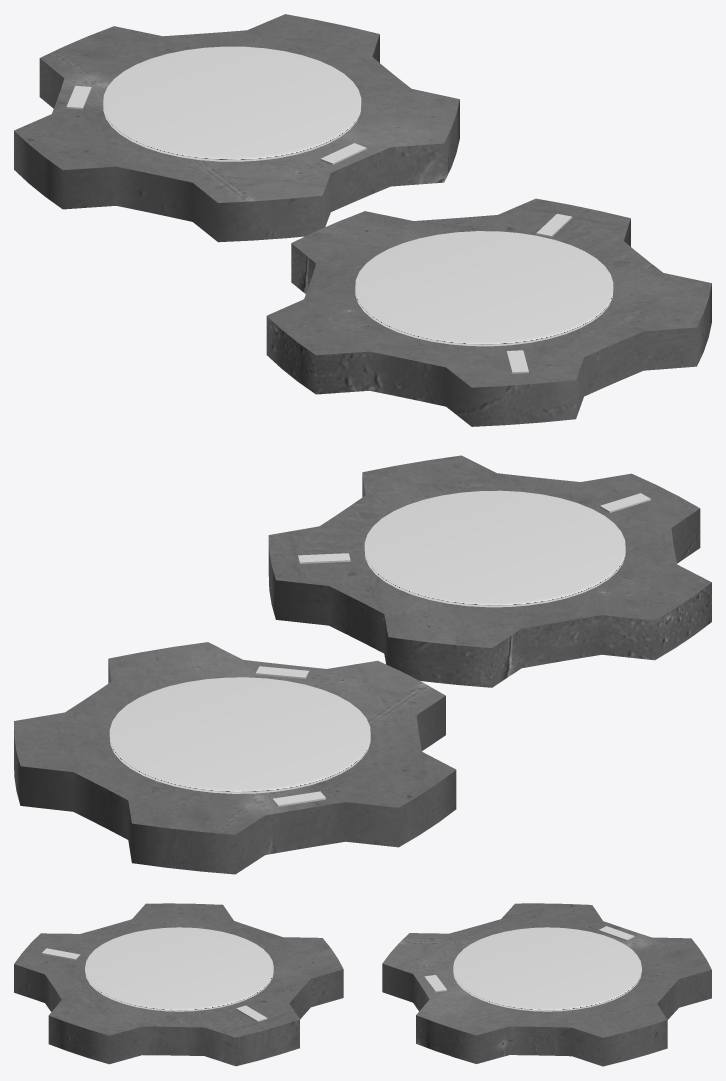
File: Gear.fbx
3 views of the same model, one above another, from view 1: azimuth 30°, elevation 25°; view 2: azimuth 150°, elevation 25°; view 3: azimuth 270°, elevation 25° (orthographic). The views are drawn at different scales.
Visible parts, largest first — view 1: Cube, Cube.002, Cylinder.001, Cylinder.003; view 2: Cube.002, Cube, Cylinder.003, Cylinder.001; view 3: Cube, Cube.002, Cylinder.001, Cylinder.003.
Part boxes in pixels (x1,y1,x2,y2): Cube: (266,198,711,426); Cube.002: (14,14,459,242); Cylinder.001: (355,231,613,346); Cylinder.003: (103,46,361,161); Cube.002: (14,642,456,874); Cube: (268,455,711,687); Cylinder.003: (109,677,370,793); Cylinder.001: (364,490,625,607); Cube: (14,903,343,1066); Cube.002: (382,903,711,1066); Cylinder.001: (85,927,273,1011); Cylinder.003: (453,927,641,1011).
Bounding box in the file's own units: 225 × 36.29 × 493.
